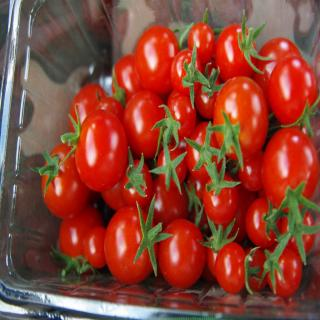Tomato: (27, 5, 320, 297), (72, 104, 130, 200), (266, 55, 320, 138)
